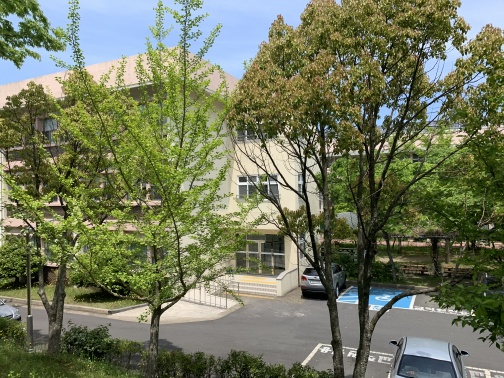College Of Education: (1, 56, 331, 321)
